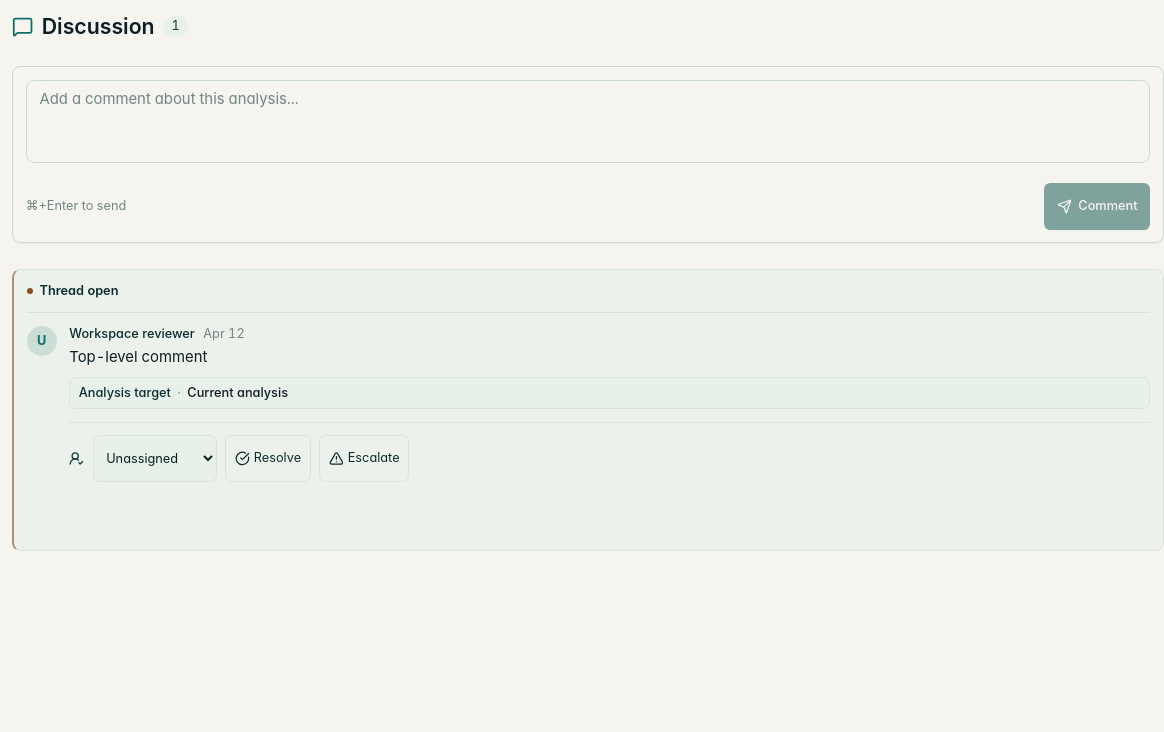
it: CommentPanel review queue actions › invalidates review-queue queries after assigning a reviewer
The width and height of the screenshot is (1164, 732).
Select "Alice Attorney" in the dropdown named "Assign owner" at [155, 459], box [93, 435, 217, 482]
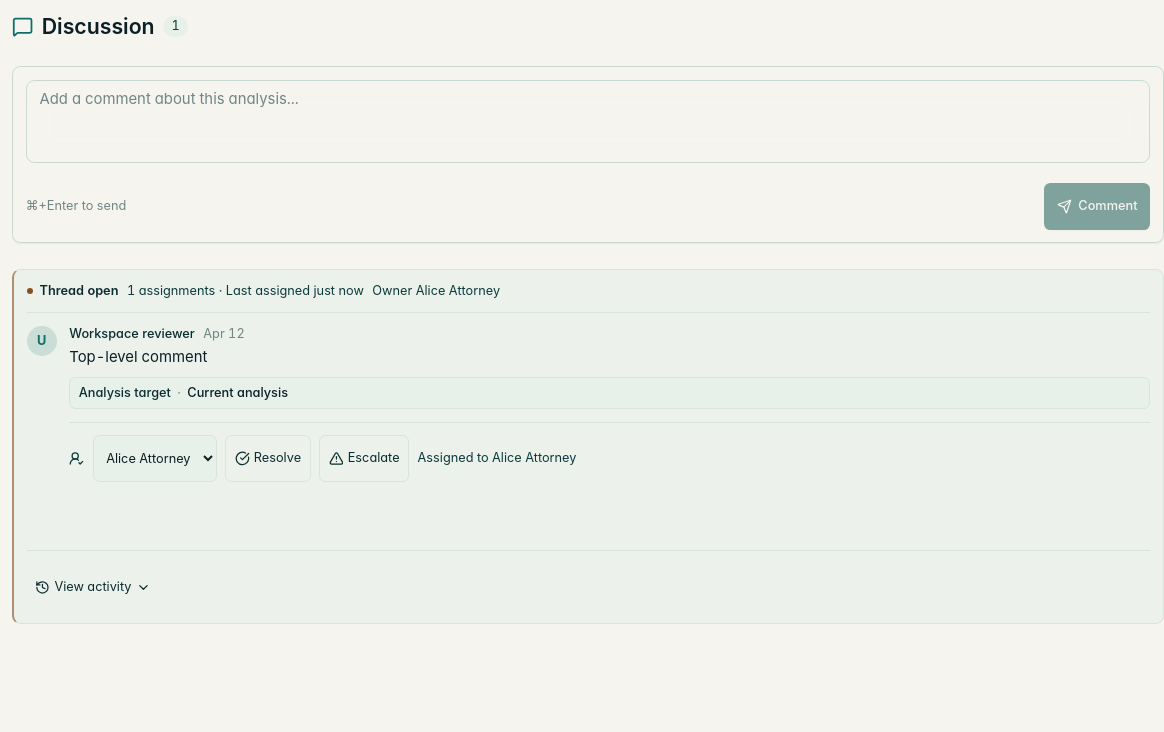
expect the text "Assigned to Alice Attorney" is shown: met, box [418, 450, 576, 467]
